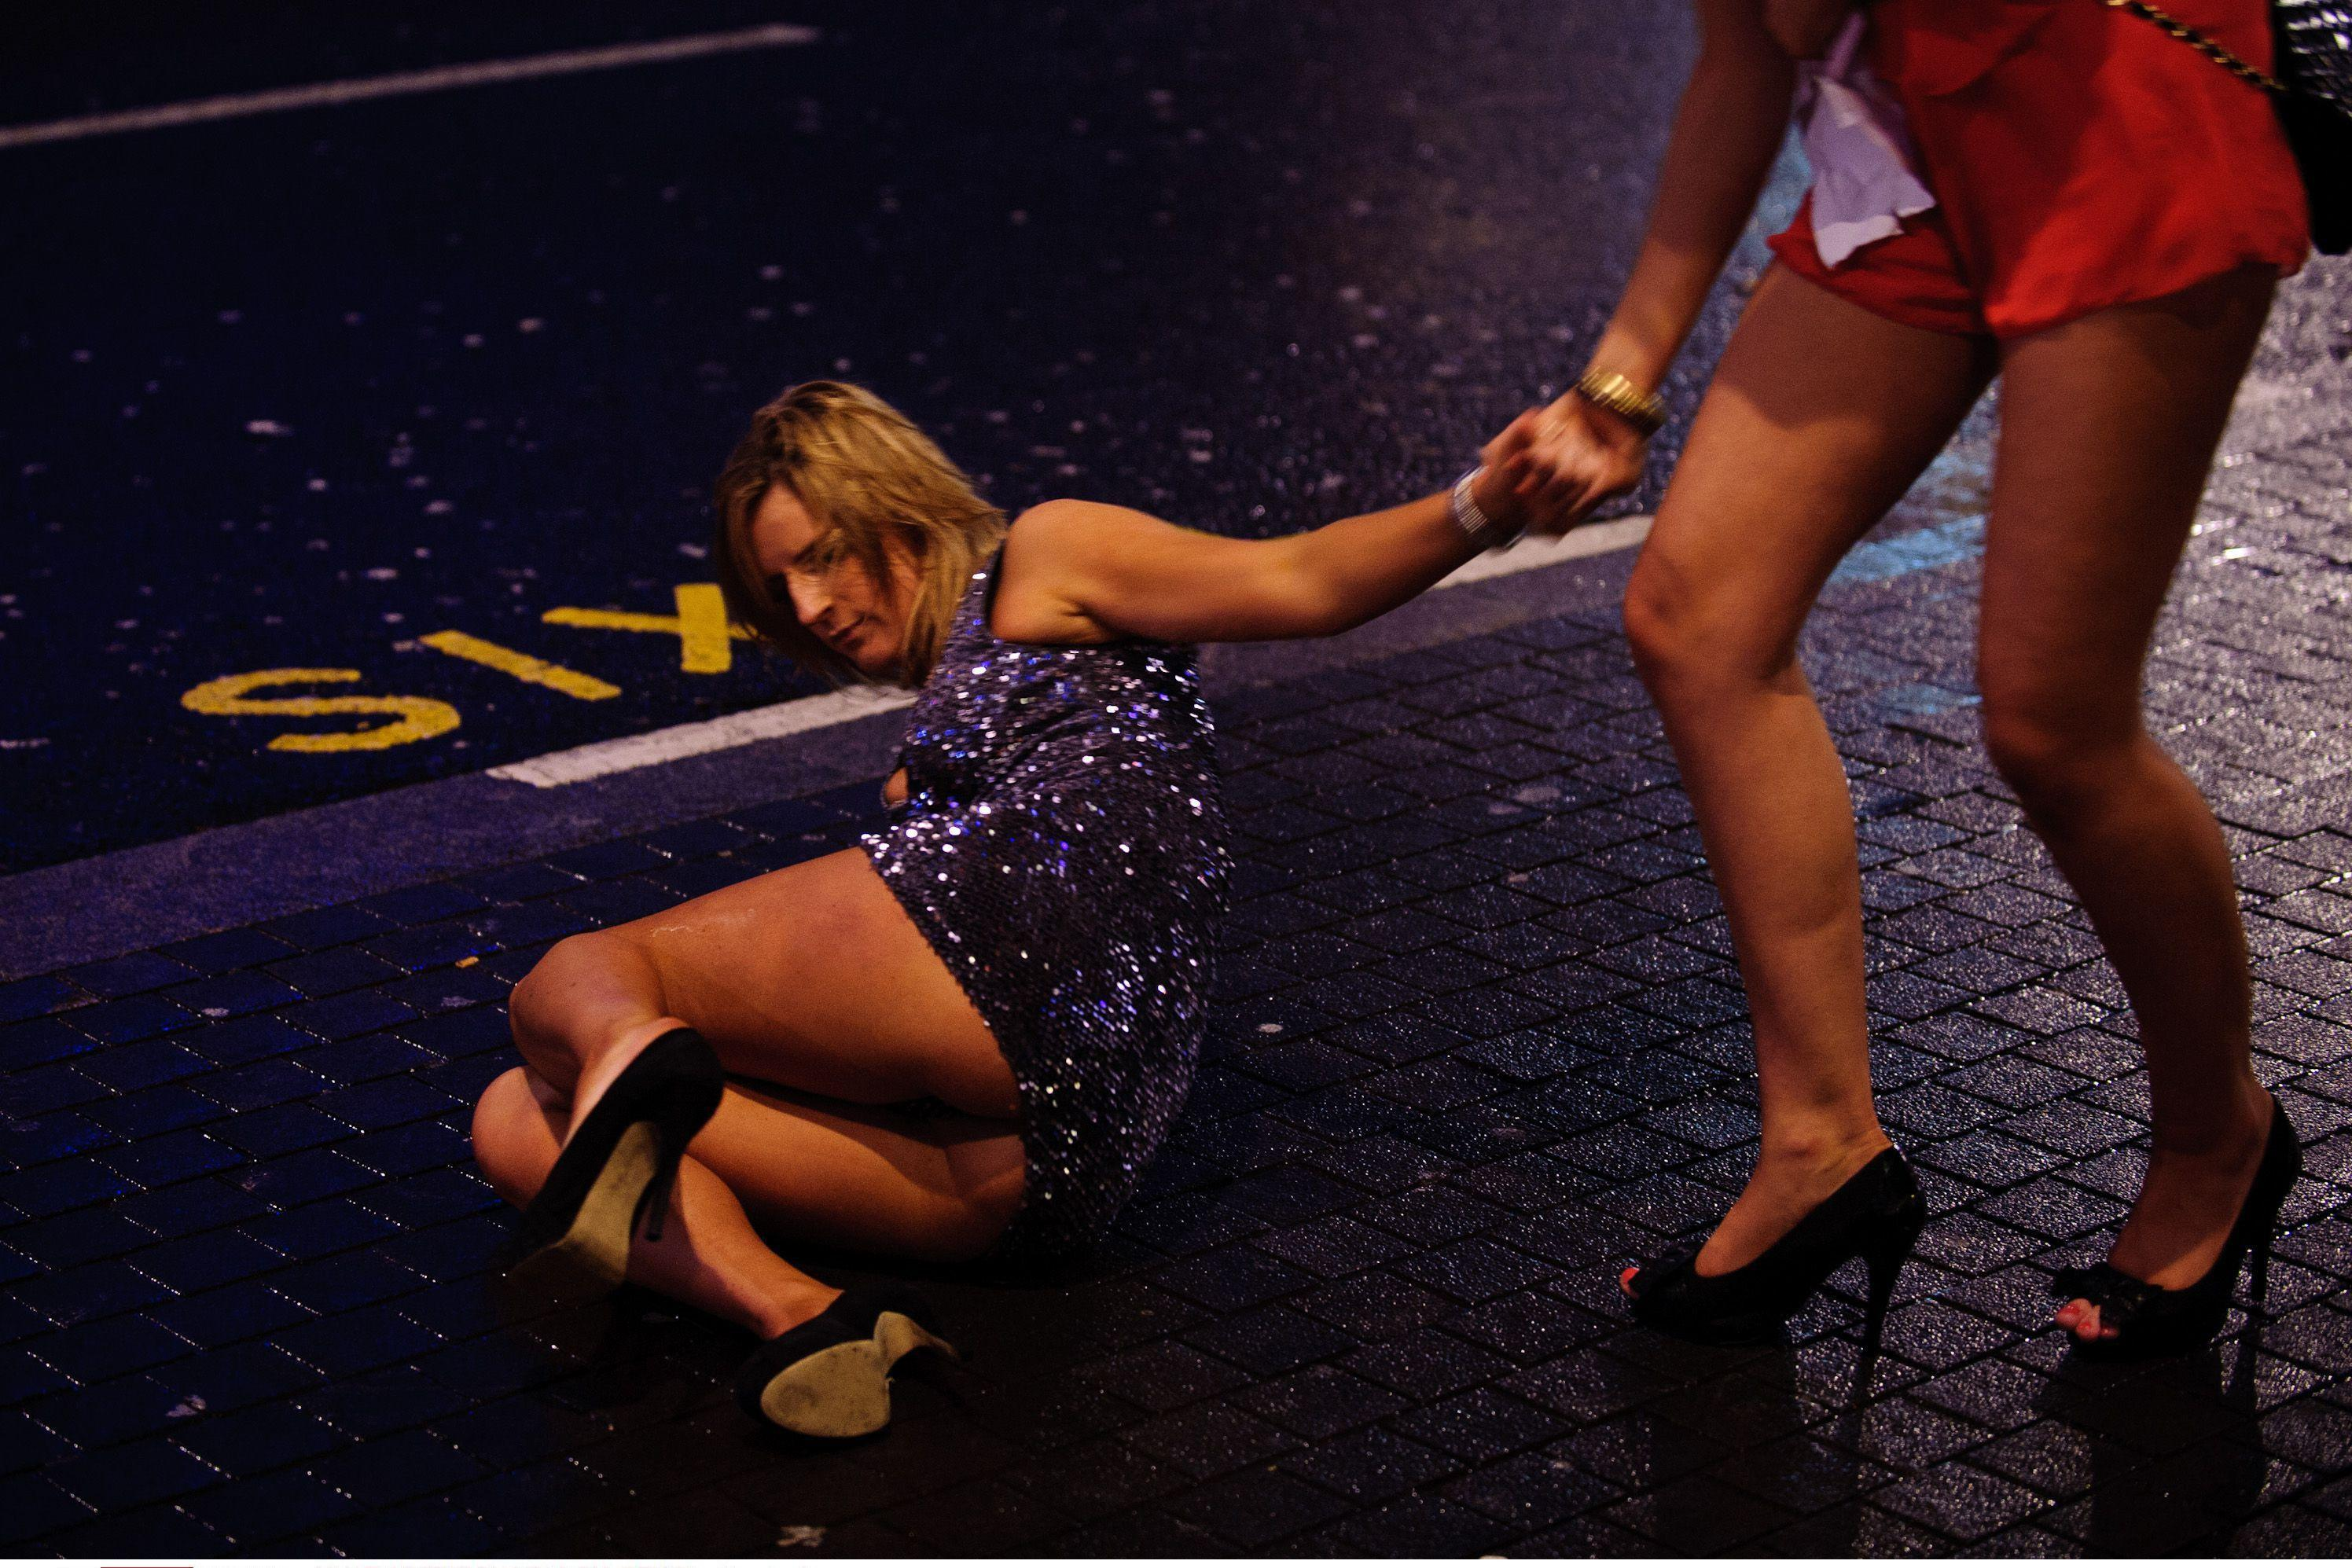Drunk: (744, 485, 907, 675)
